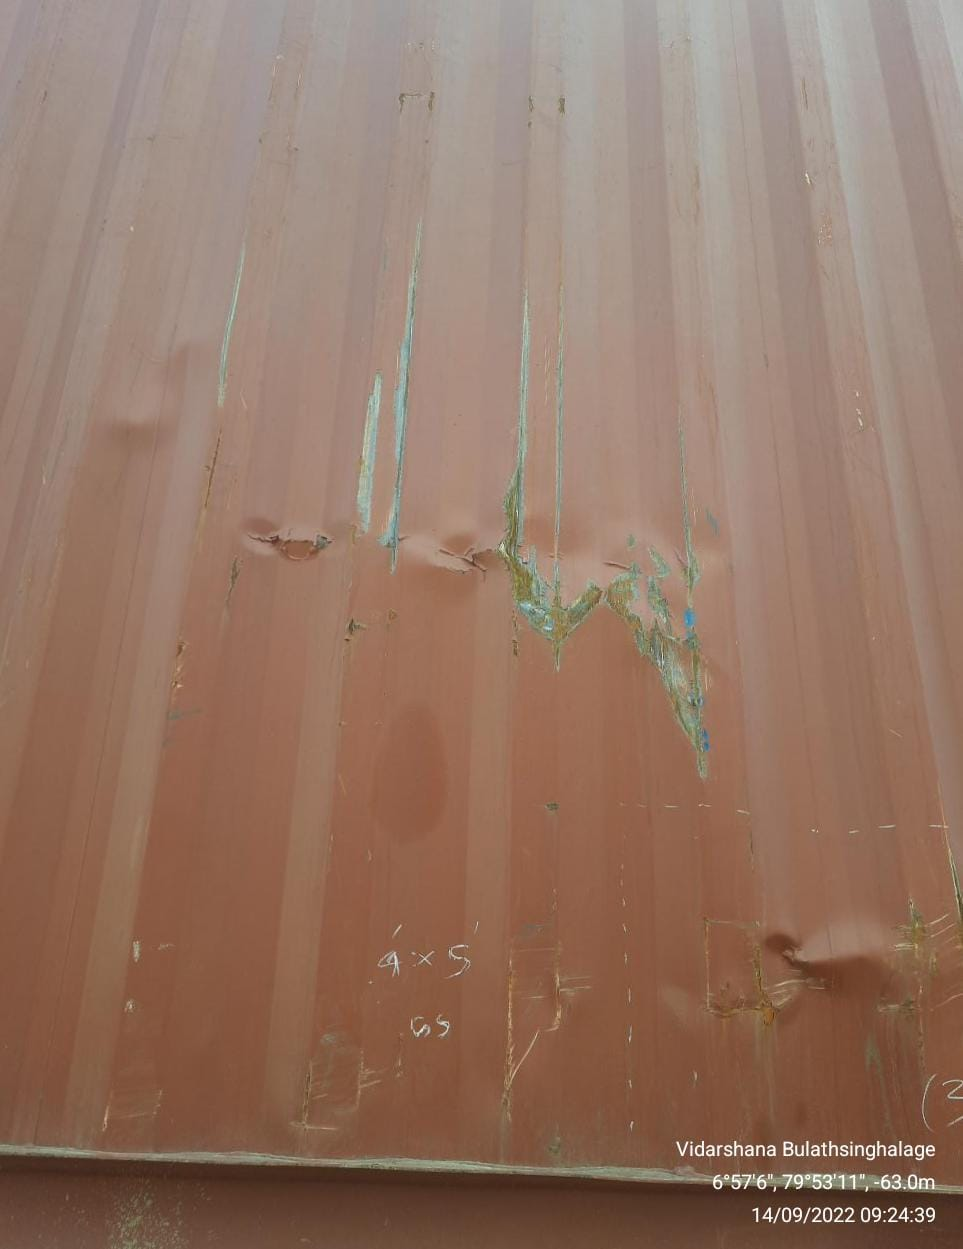cut: (228, 465, 788, 749)
